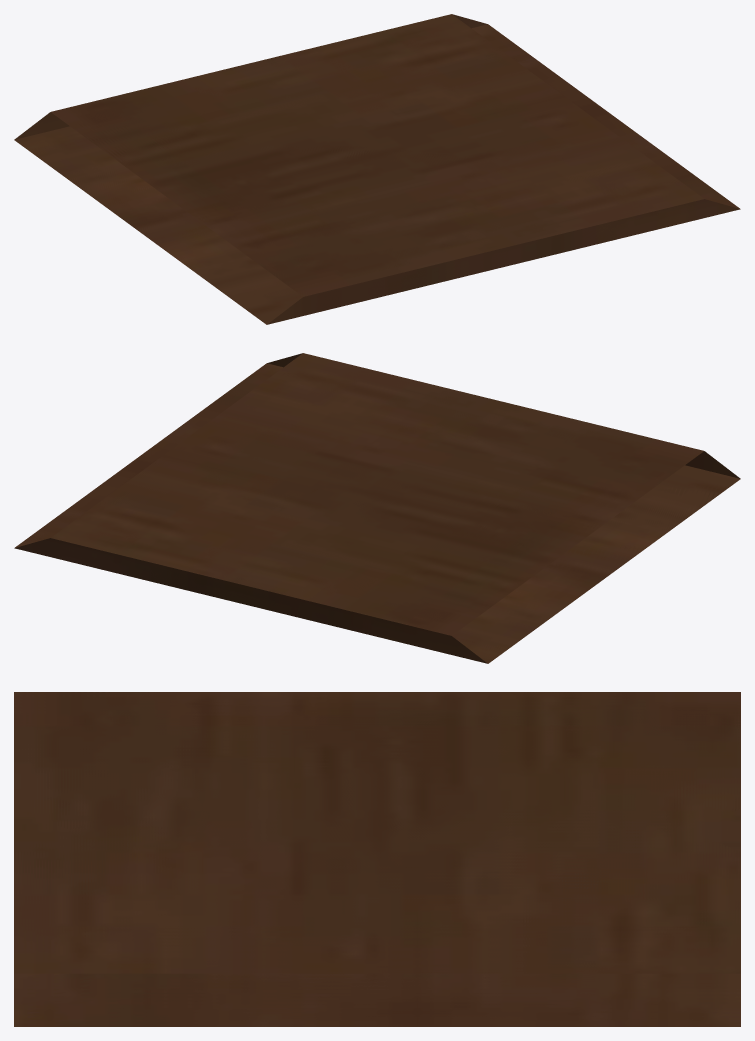
Rendered from link_8__other_leaf-16.glb.
3 views of the same model, one above another, from view 1: azimuth 30°, elevation 25°; view 2: azimuth 150°, elevation 25°; view 3: azimuth 270°, elevation 25° (orthographic). The views are drawn at different scales.
Parts seen in each view (by area): view 1: geometry_0; view 2: geometry_0; view 3: geometry_0.
Part boxes in pixels (bbox=[...]): geometry_0: bbox=[14, 14, 740, 324]; geometry_0: bbox=[14, 353, 740, 663]; geometry_0: bbox=[14, 692, 740, 1026].
Size of the model in its own units: 0.1365 by 0.00525 by 0.126.
1 material, 1 textured.
